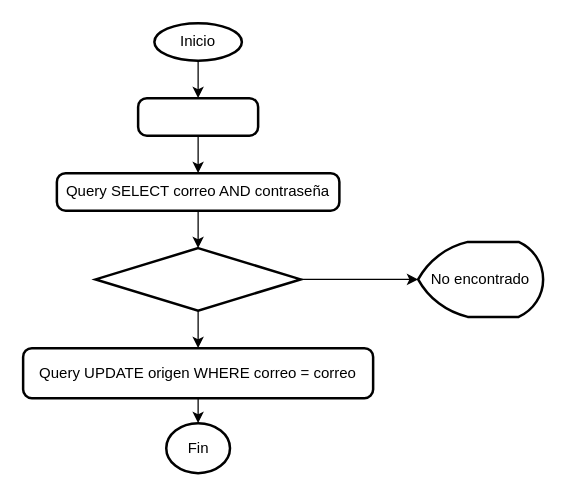
The diagram is 565 pixels wide and 495 high, and some of its shapes have lost their labels. The shapes that lost their labels are listed below. From the top down, each one's box as (x1, y1, x2, y2) in pixels, then its label:
(136, 96, 259, 136): iniciarSesion
(94, 246, 301, 311): ¿Existe registro?
